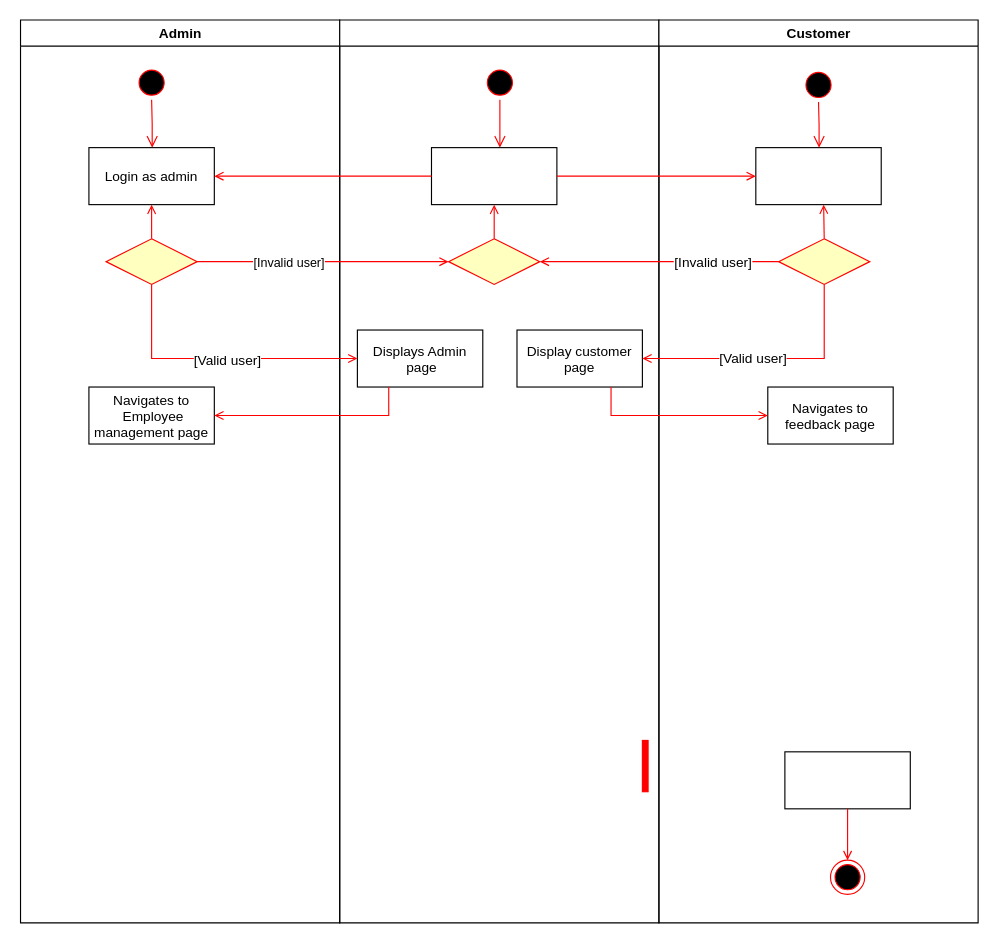
Some shapes in this 998 by 943 pixel diagram are drawn without their labels. The box of each missing label's shape, as (x1, y1, x2, y2) in pixels:
Directs to login page: (430, 146, 557, 205)
Login as customer: (755, 146, 881, 205)
process command: (784, 751, 910, 809)
System: (339, 19, 659, 923)
